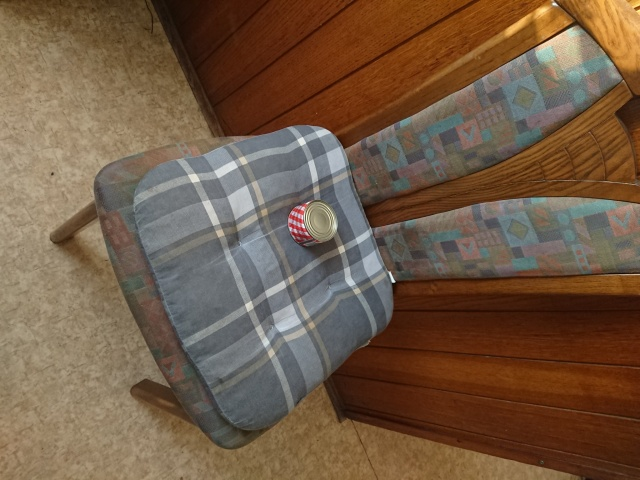Podravka Luncheon Meat 150g: (286, 198, 340, 250)
